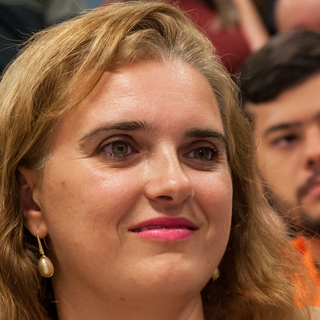eye: (91, 132, 141, 164), (175, 141, 223, 169)
